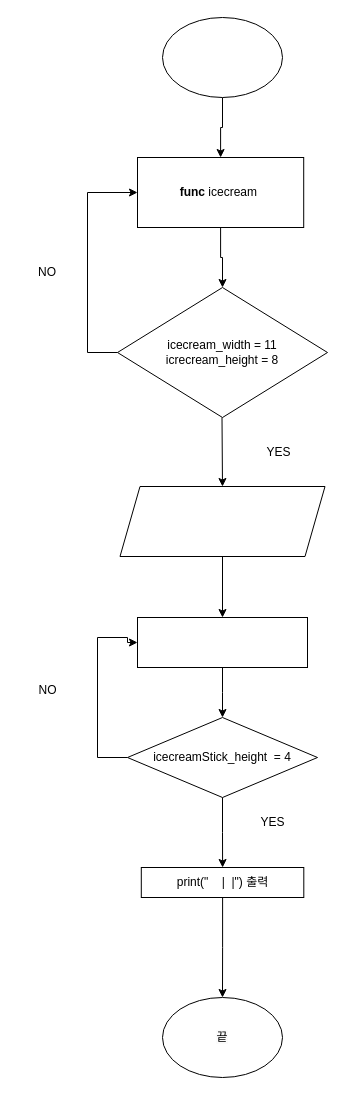
Some shapes in this 345 by 1095 pixel diagram are drawn without their labels. The shapes that lost their labels are listed below. From the top down, each one's centre as x and y in pixels, then its label:
(222,57): 시작
(222,521): print("*",terminator:"") 및 print() 출력
(222,642): func icecreamStick
